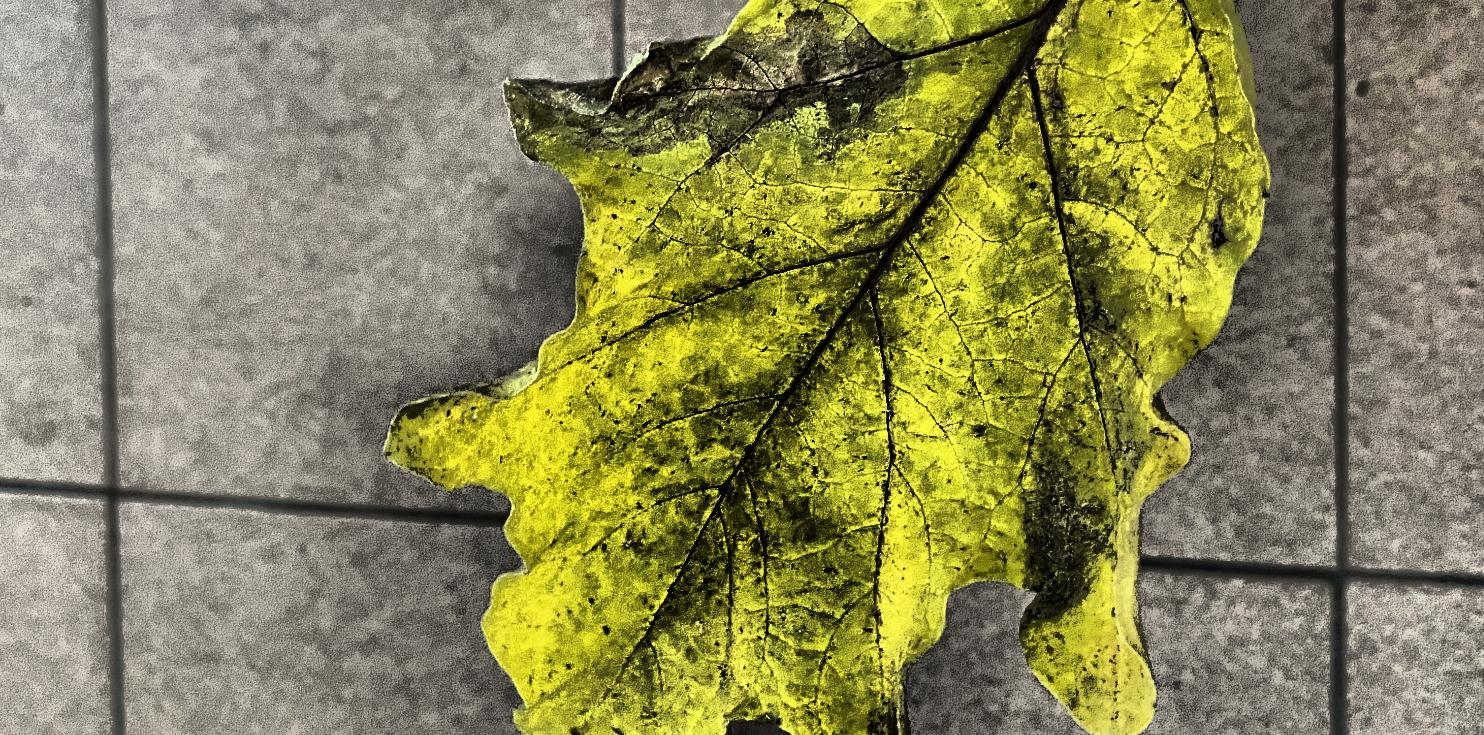Critical Stress: (0, 161, 1049, 735)
